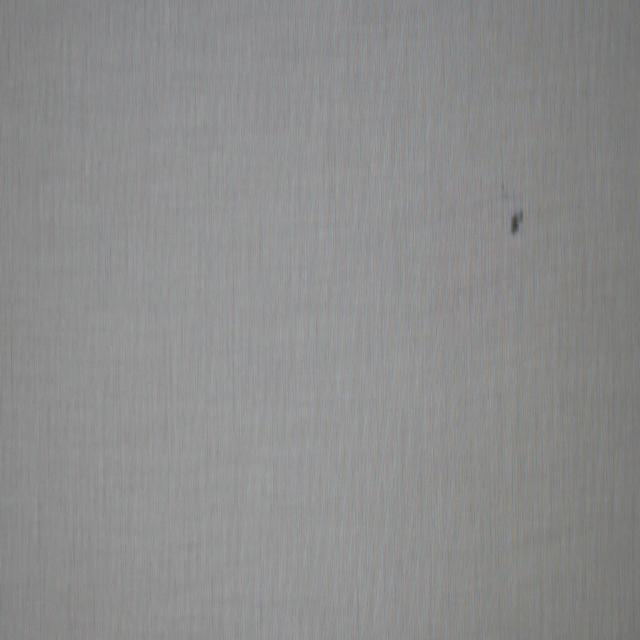dirty: (512, 208, 524, 236), (501, 184, 506, 198)
